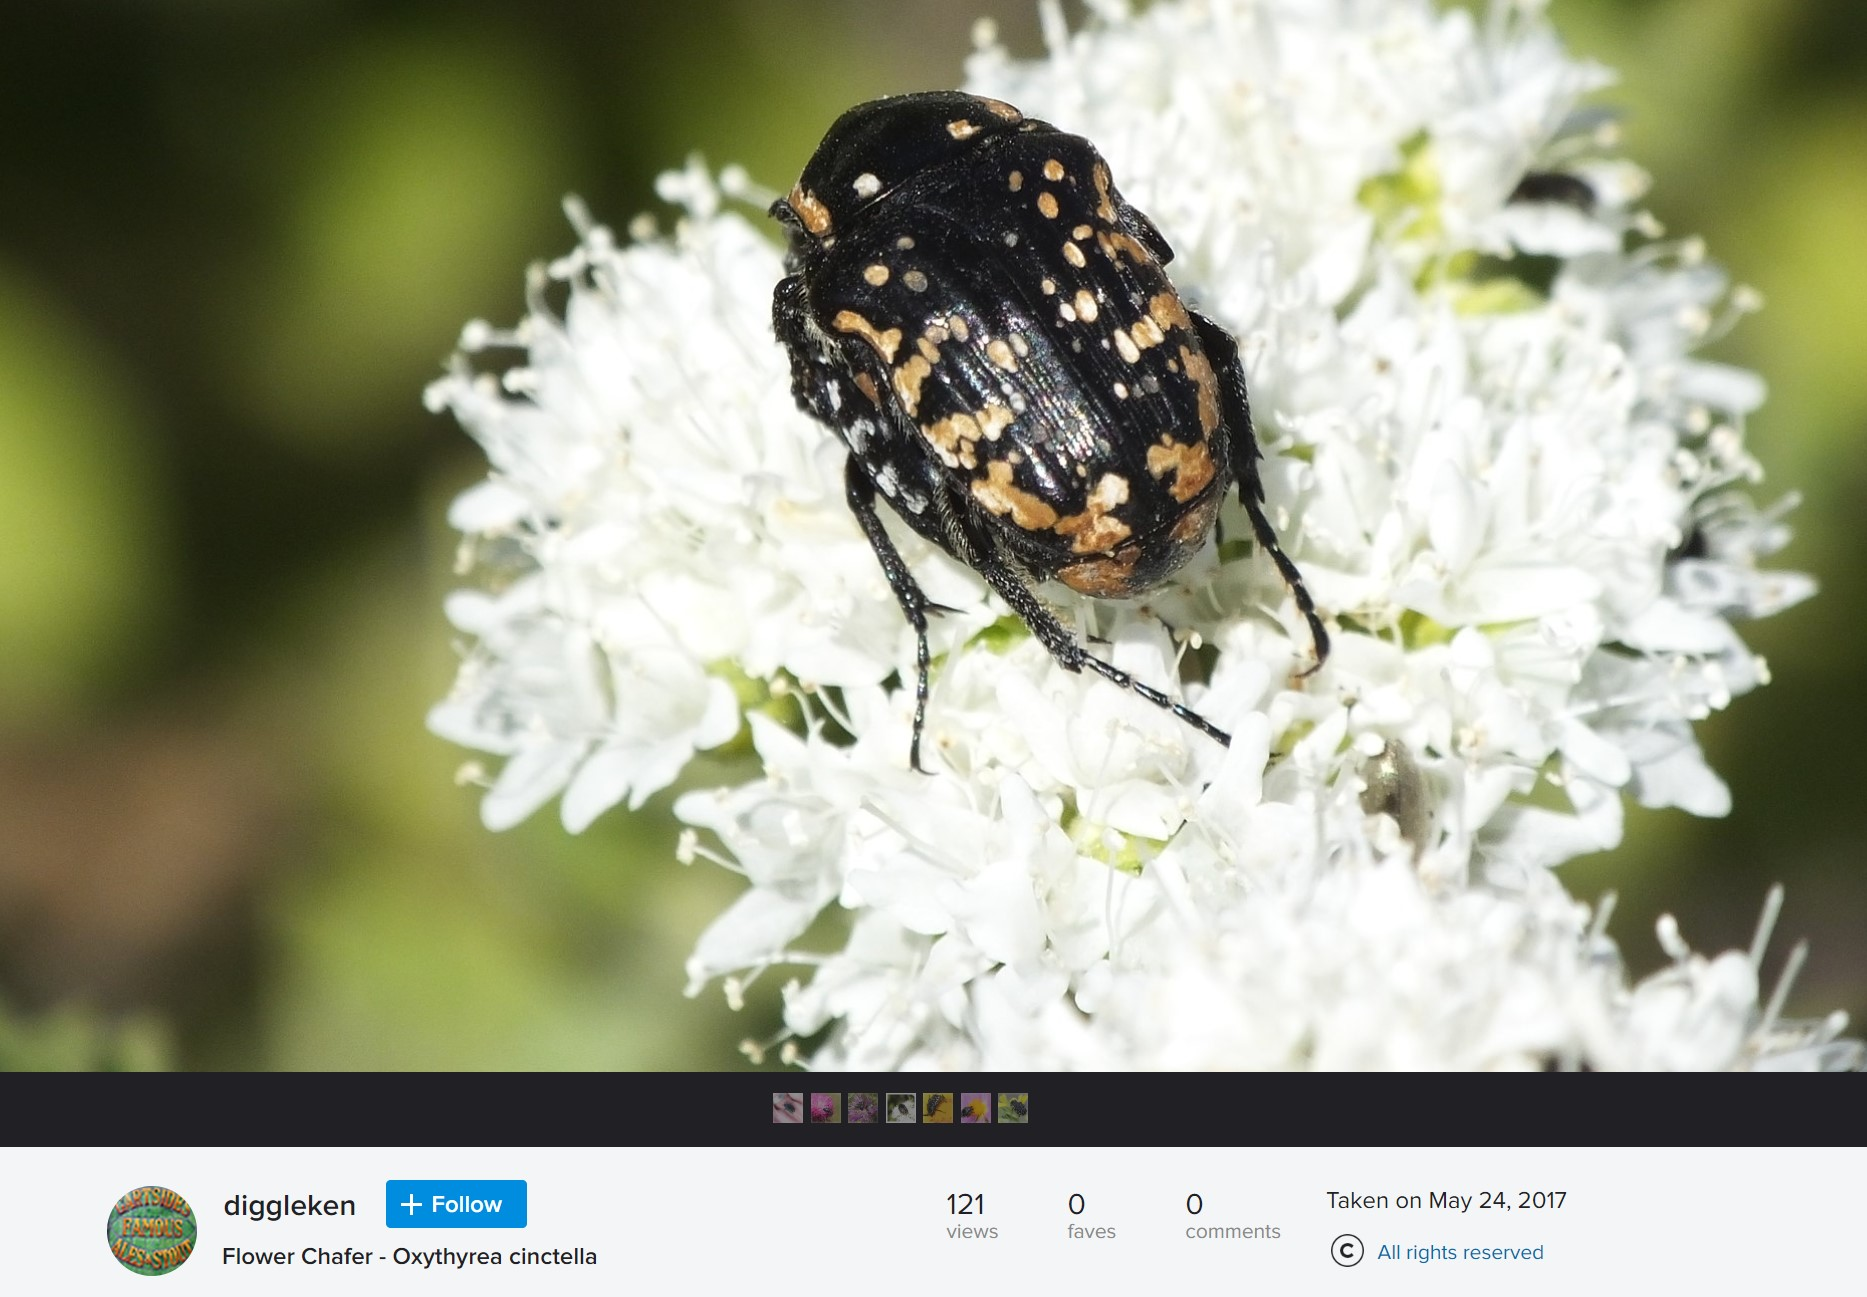Oxythyrea_cinctella: (759, 45, 1359, 783)
